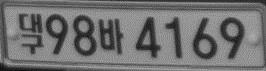1: (163, 16, 187, 58)
4: (135, 16, 162, 58)
6: (192, 16, 218, 59)
8: (72, 14, 97, 55)
9: (219, 15, 245, 59), (44, 13, 68, 54)
대구_V: (18, 12, 43, 54)
바: (97, 17, 124, 53)
